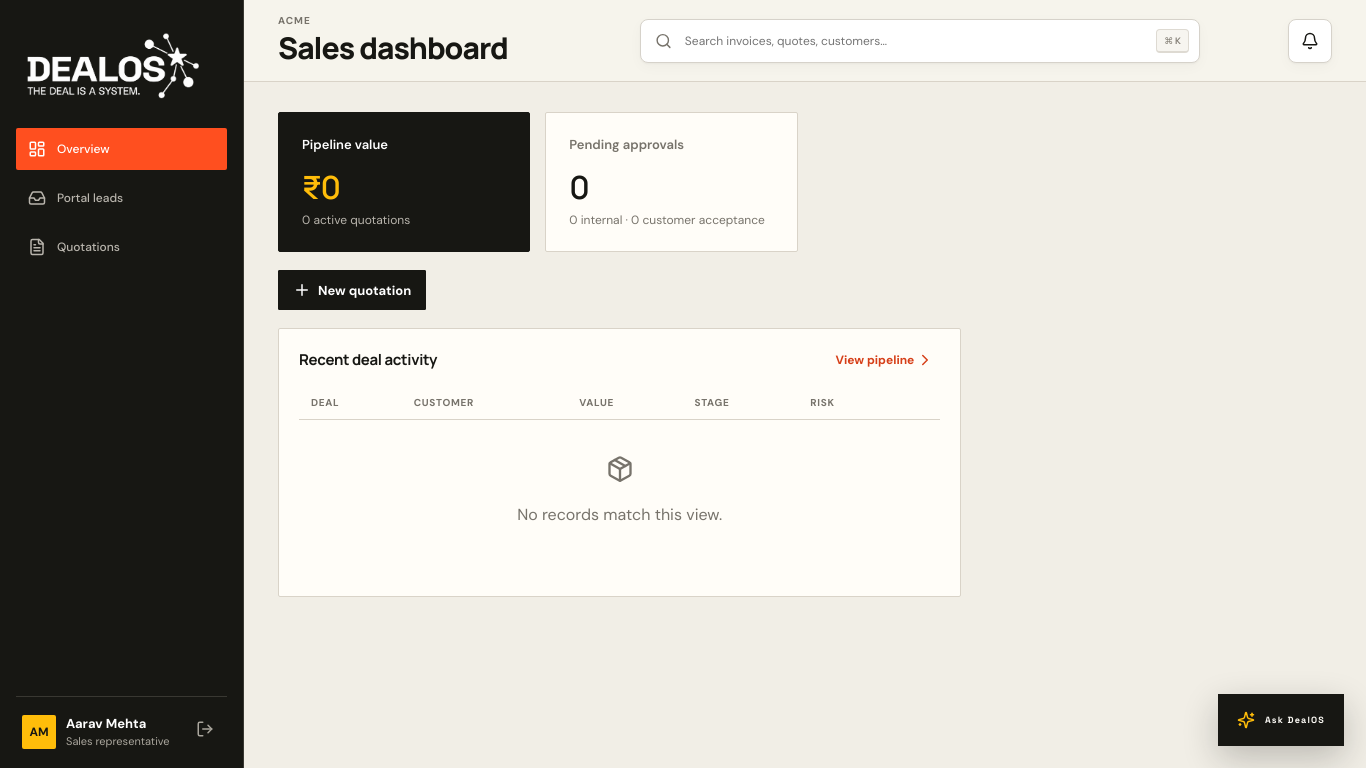
Scenario: DealOS public routes › shows the exact business role and blocks navigation to unassigned modules
Expected: the heading "Sales dashboard" is shown, [278,26,508,68]
Expected: the text "Sales representative" is shown, [66,734,179,748]
Click the button "Portal leads".
click(122, 198)  # box [16,177,227,219]
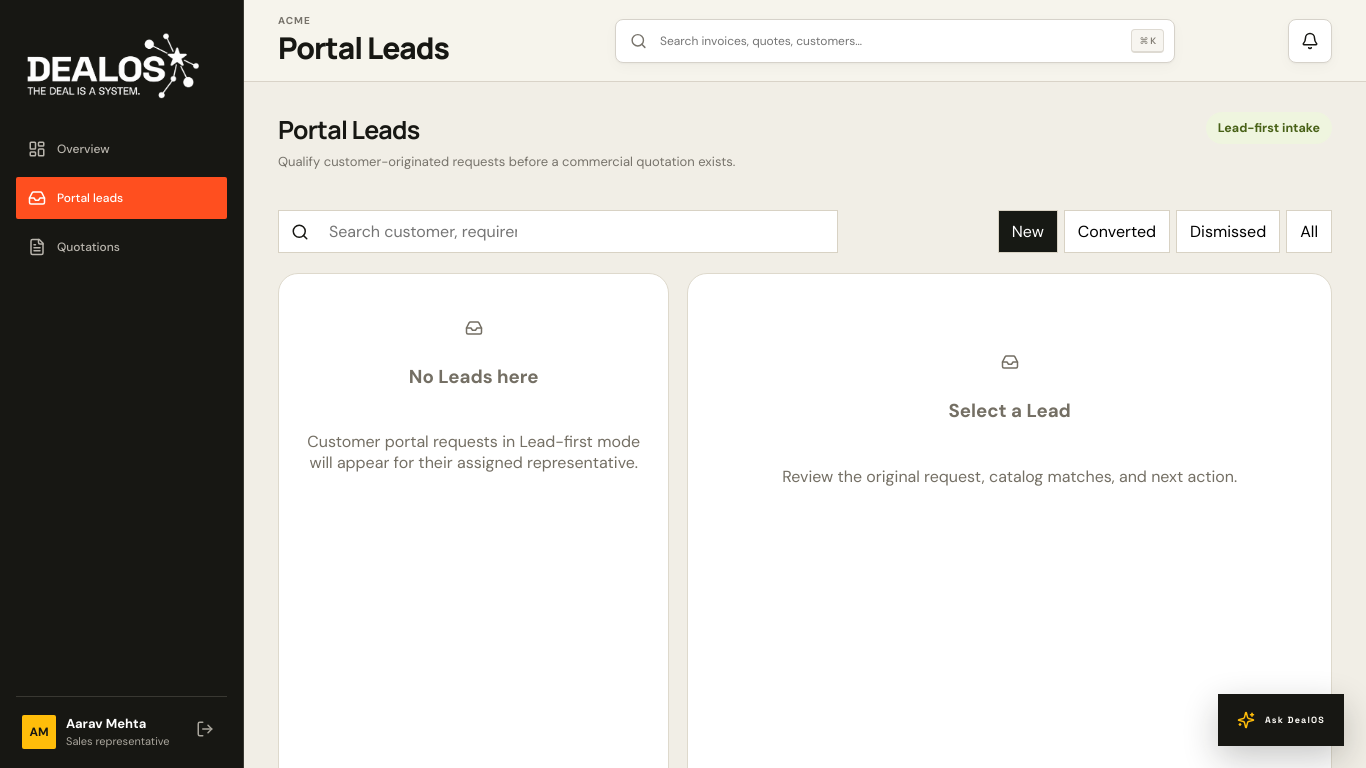
Expected: the heading "Portal Leads" below "Acme" is shown, [278,26,458,68]
